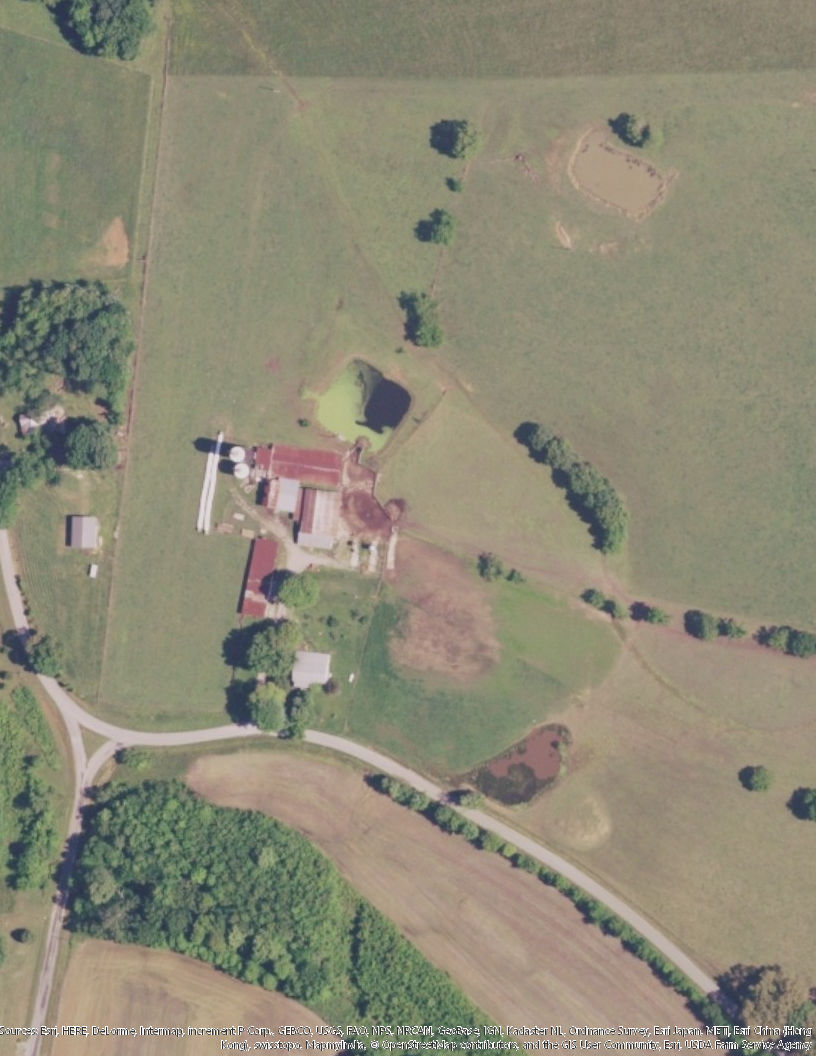cafo: (256, 443, 352, 486), (234, 534, 280, 620)
